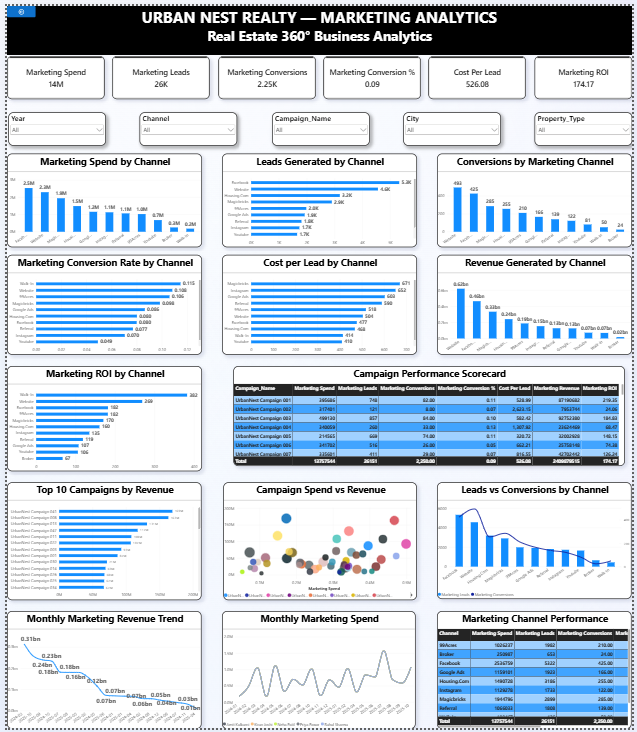

This screenshot's page, from the dashboard's own definition file:
{"tool":"powerbi","page":{"name":"MARKETING_ANALYTICS","canvas":[2174,2510],"ordinal":5},"visuals":[{"type":"cardVisual","fields":{"Data":["_Marketing_Measures.Marketing Spend"]},"box":[0,176,340,150],"z":0},{"type":"cardVisual","fields":{"Data":["_Marketing_Measures.Marketing ROI"]},"box":[1834,176,340,150],"z":1},{"type":"cardVisual","fields":{"Data":["_Marketing_Measures.Marketing Leads"]},"box":[366.8,175.3,340,150],"z":2},{"type":"cardVisual","fields":{"Data":["_Marketing_Measures.Marketing Conversions"]},"box":[733.6,175.3,340,150],"z":3},{"type":"cardVisual","title":"Sell Through %","fields":{"Data":["_Marketing_Measures.Cost Per Lead"]},"box":[1467.2,175.3,340,150],"z":4},{"type":"cardVisual","fields":{"Data":["_Marketing_Measures.Marketing Conversion %"]},"box":[1100.4,176,340,150],"z":5},{"type":"clusteredColumnChart","title":"Marketing Spend by Channel","fields":{"Category":["Dim_Campaign.Channel"],"Y":["_Marketing_Measures.Marketing Spend"]},"box":[0,512,678,326],"z":6},{"type":"clusteredBarChart","title":"Leads Generated by Channel","fields":{"Category":["Dim_Campaign.Channel"],"Y":["_Marketing_Measures.Marketing Leads"]},"box":[748,512,678,326],"z":7},{"type":"clusteredColumnChart","title":"Revenue Generated by Channel","fields":{"Category":["Dim_Campaign.Channel"],"Y":["_Marketing_Measures.Marketing Revenue"]},"box":[1496,866,678,348],"z":9},{"type":"clusteredColumnChart","title":"Conversions by Marketing Channel","fields":{"Category":["Dim_Campaign.Channel"],"Y":["_Marketing_Measures.Marketing Conversions"]},"box":[1496,512,678,326],"z":10},{"type":"clusteredBarChart","title":"Marketing ROI by Channel","fields":{"Category":["Dim_Campaign.Channel"],"Y":["_Marketing_Measures.Marketing ROI"]},"box":[2,1252,678,366],"z":11},{"type":"pivotTable","title":"Campaign Performance Scorecard","fields":{"Rows":["Dim_Campaign.Campaign_Name"],"Values":["_Marketing_Measures.Marketing Spend","_Marketing_Measures.Marketing Leads","_Marketing_Measures.Marketing Conversions","_Marketing_Measures.Marketing Conversion %","_Marketing_Measures.Cost Per Lead","_Marketing_Measures.Marketing Revenue","_Marketing_Measures.Marketing ROI"]},"box":[786,1252,1362,348],"z":12},{"type":"slicer","fields":{"Values":["Dim_Date.Year"]},"box":[6,368,340,116.7],"z":14},{"type":"slicer","fields":{"Values":["Dim_Location.City"]},"box":[1377,368.6,340,116.7],"z":15},{"type":"slicer","fields":{"Values":["Dim_Campaign.Campaign_Name"]},"box":[920,368.6,340,116.7],"z":16},{"type":"slicer","fields":{"Values":["Dim_Campaign.Channel"]},"box":[463,368.6,340,116.7],"z":17},{"type":"slicer","fields":{"Values":["Dim_Property.Property_Type"]},"box":[1834,368,340,116.7],"z":18},{"type":"textbox","box":[6,20,280,150],"z":19},{"type":"textbox","box":[0,0,2174,170],"z":20},{"type":"lineChart","title":"Monthly Marketing Revenue Trend","fields":{"Category":["Dim_Date.Year_Month"],"Y":["_Marketing_Measures.Marketing Revenue"]},"box":[0,2103.3,676.7,410],"z":21},{"type":"pivotTable","title":"Marketing Channel Performance","fields":{"Rows":["Dim_Campaign.Channel"],"Values":["_Marketing_Measures.Marketing Spend","_Marketing_Measures.Marketing Leads","_Marketing_Measures.Marketing Conversions","_Marketing_Measures.Marketing Conversion %","_Marketing_Measures.Marketing Revenue","_Marketing_Measures.Marketing ROI"]},"box":[1496.7,2103.3,676.7,410],"z":22},{"type":"scatterChart","title":"Campaign Spend vs Revenue","fields":{"Series":["Dim_Campaign.Campaign_Name"],"Size":["_Marketing_Measures.Marketing Leads"],"X":["_Marketing_Measures.Marketing Spend"],"Y":["_Marketing_Measures.Marketing Revenue"]},"box":[750,1656.7,673.3,410],"z":23},{"type":"lineClusteredColumnComboChart","title":"Leads vs Conversions by Channel","fields":{"Category":["Dim_Campaign.Channel"],"Y":["_Marketing_Measures.Marketing Leads"],"Y2":["_Marketing_Measures.Marketing Conversions"]},"box":[1496.7,1656.7,676.7,406.7],"z":24},{"type":"barChart","title":"Top 10 Campaigns by Revenue","fields":{"Category":["Dim_Campaign.Campaign_Name"],"Y":["_Marketing_Measures.Marketing Revenue"]},"box":[0,1656.7,676.7,410],"z":25},{"type":"lineChart","title":"Monthly Marketing Spend","fields":{"Category":["Dim_Date.Year_Month"],"Series":["Dim_Agent.Agent_Name"],"Y":["_Marketing_Measures.Marketing Spend"]},"box":[746.7,2103.3,673.3,410],"z":27},{"type":"actionButton","box":[0,0,100,40],"z":28},{"type":"clusteredBarChart","title":"Marketing Conversion Rate by Channel","fields":{"Category":["Dim_Campaign.Channel"],"Y":["_Marketing_Measures.Marketing Conversion %"]},"box":[0,866,678,348],"z":30},{"type":"clusteredBarChart","title":"Cost per Lead by Channel","fields":{"Category":["Dim_Campaign.Channel"],"Y":["_Marketing_Measures.Cost Per Lead"]},"box":[748,866,678,348],"z":31}]}

Visuals, with their boxes in screenshot pixels (x1, y1, x2, y2), scaled from the page's 2174x2510 canvas onto the 637x732 screenshot:
cardVisual - _Marketing_Measures.Marketing Spend: BBox(0, 51, 100, 95)
cardVisual - _Marketing_Measures.Marketing ROI: BBox(537, 51, 636, 95)
cardVisual - _Marketing_Measures.Marketing Leads: BBox(107, 51, 207, 95)
cardVisual - _Marketing_Measures.Marketing Conversions: BBox(215, 51, 315, 95)
"Sell Through %" cardVisual: BBox(430, 51, 530, 95)
cardVisual - _Marketing_Measures.Marketing Conversion %: BBox(322, 51, 422, 95)
"Marketing Spend by Channel" clusteredColumnChart: BBox(0, 149, 199, 244)
"Leads Generated by Channel" clusteredBarChart: BBox(219, 149, 418, 244)
"Revenue Generated by Channel" clusteredColumnChart: BBox(438, 253, 636, 354)
"Conversions by Marketing Channel" clusteredColumnChart: BBox(438, 149, 636, 244)
"Marketing ROI by Channel" clusteredBarChart: BBox(1, 365, 199, 472)
"Campaign Performance Scorecard" pivotTable: BBox(230, 365, 629, 467)
slicer - Dim_Date.Year: BBox(2, 107, 101, 141)
slicer - Dim_Location.City: BBox(403, 107, 503, 142)
slicer - Dim_Campaign.Campaign_Name: BBox(270, 107, 369, 142)
slicer - Dim_Campaign.Channel: BBox(136, 107, 235, 142)
slicer - Dim_Property.Property_Type: BBox(537, 107, 636, 141)
textbox: BBox(2, 6, 84, 50)
textbox: BBox(0, 0, 636, 50)
"Monthly Marketing Revenue Trend" lineChart: BBox(0, 613, 198, 731)
"Marketing Channel Performance" pivotTable: BBox(439, 613, 636, 731)
"Campaign Spend vs Revenue" scatterChart: BBox(220, 483, 417, 603)
"Leads vs Conversions by Channel" lineClusteredColumnComboChart: BBox(439, 483, 636, 602)
"Top 10 Campaigns by Revenue" barChart: BBox(0, 483, 198, 603)
"Monthly Marketing Spend" lineChart: BBox(219, 613, 416, 731)
actionButton: BBox(0, 0, 29, 12)
"Marketing Conversion Rate by Channel" clusteredBarChart: BBox(0, 253, 199, 354)
"Cost per Lead by Channel" clusteredBarChart: BBox(219, 253, 418, 354)
